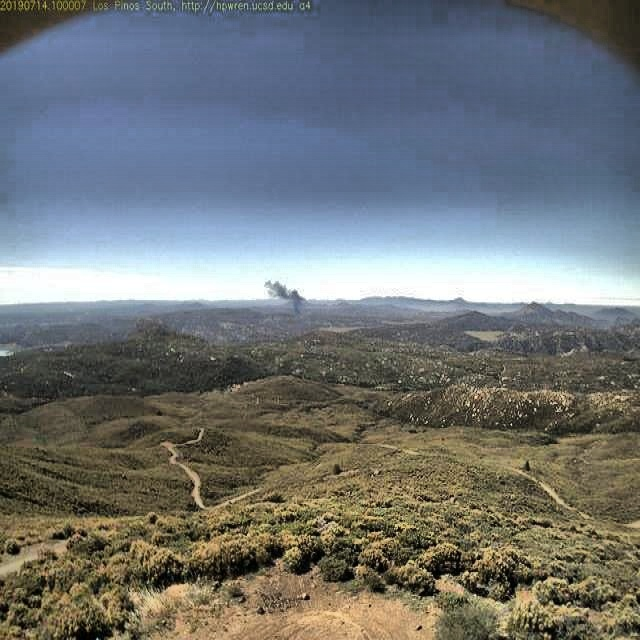smoke: (258, 271, 308, 320)
